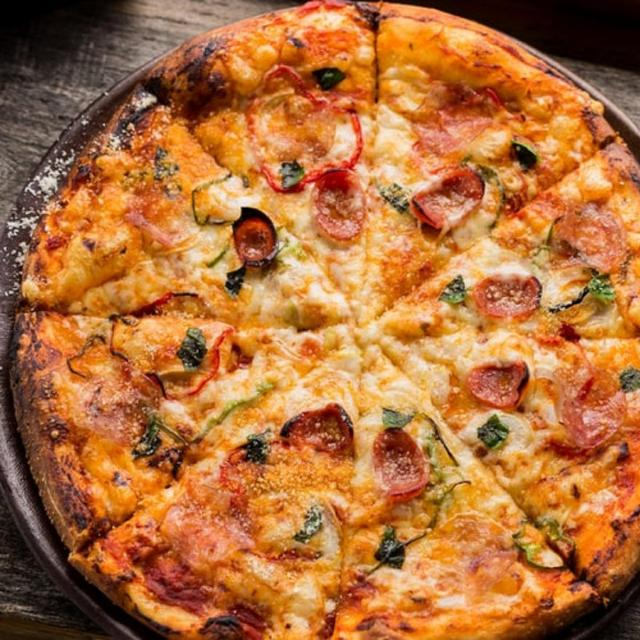pizza: (0, 3, 640, 640), (13, 6, 640, 640)
